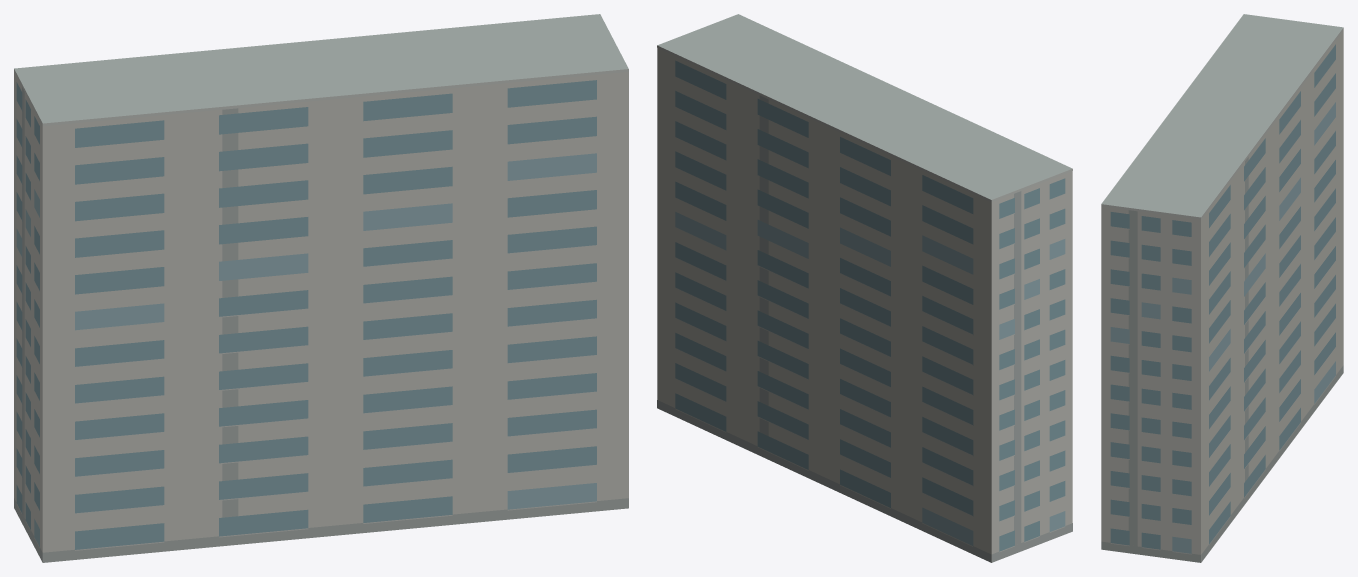
File: residential-9c689696-ae37-489b-ba6a-b7edf2b96f13.glb
3 views of the same model, side by side, from view 1: azimuth 30°, elevation 25°; view 2: azimuth 150°, elevation 25°; view 3: azimuth 270°, elevation 25° (orthographic). The views are drawn at different scales.
Visible parts, largest first — view 1: residential-9c689696-ae37-489b-ba6a-b7edf2b96f13.tmp; view 2: residential-9c689696-ae37-489b-ba6a-b7edf2b96f13.tmp; view 3: residential-9c689696-ae37-489b-ba6a-b7edf2b96f13.tmp.
Boxes of the visible parts, left/top/right/bottom form: residential-9c689696-ae37-489b-ba6a-b7edf2b96f13.tmp: left=14, top=14, right=628, bottom=562; residential-9c689696-ae37-489b-ba6a-b7edf2b96f13.tmp: left=657, top=14, right=1072, bottom=562; residential-9c689696-ae37-489b-ba6a-b7edf2b96f13.tmp: left=1101, top=14, right=1343, bottom=562.
Bounding box in the file's own units: 45.48 × 36 × 22.91.
